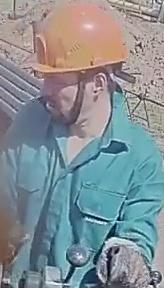gloves: (95, 236, 152, 287)
helmet: (29, 0, 131, 87)
vest: (0, 86, 163, 287)
